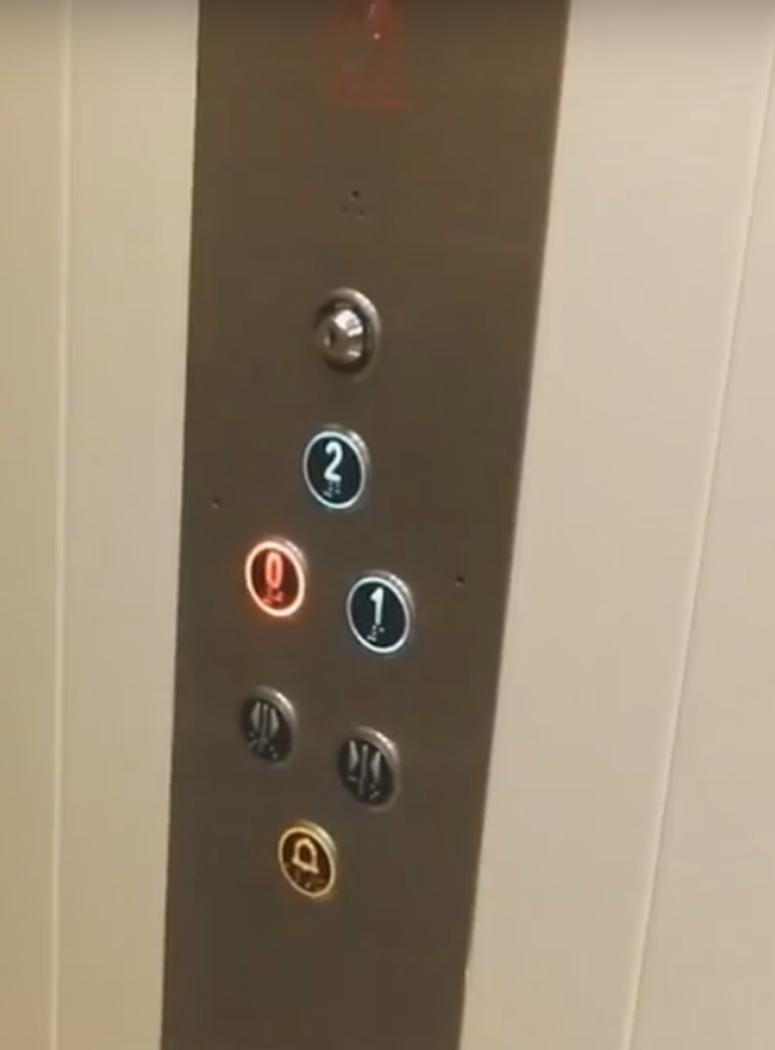0: (240, 533, 309, 622)
1: (342, 568, 417, 659)
2: (298, 424, 374, 514)
alarm: (271, 819, 342, 903)
close: (330, 720, 407, 814)
keyhole: (304, 283, 386, 383)
open: (234, 684, 301, 771)
